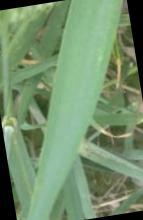Wheat: (57, 3, 117, 120), (33, 118, 81, 216)
